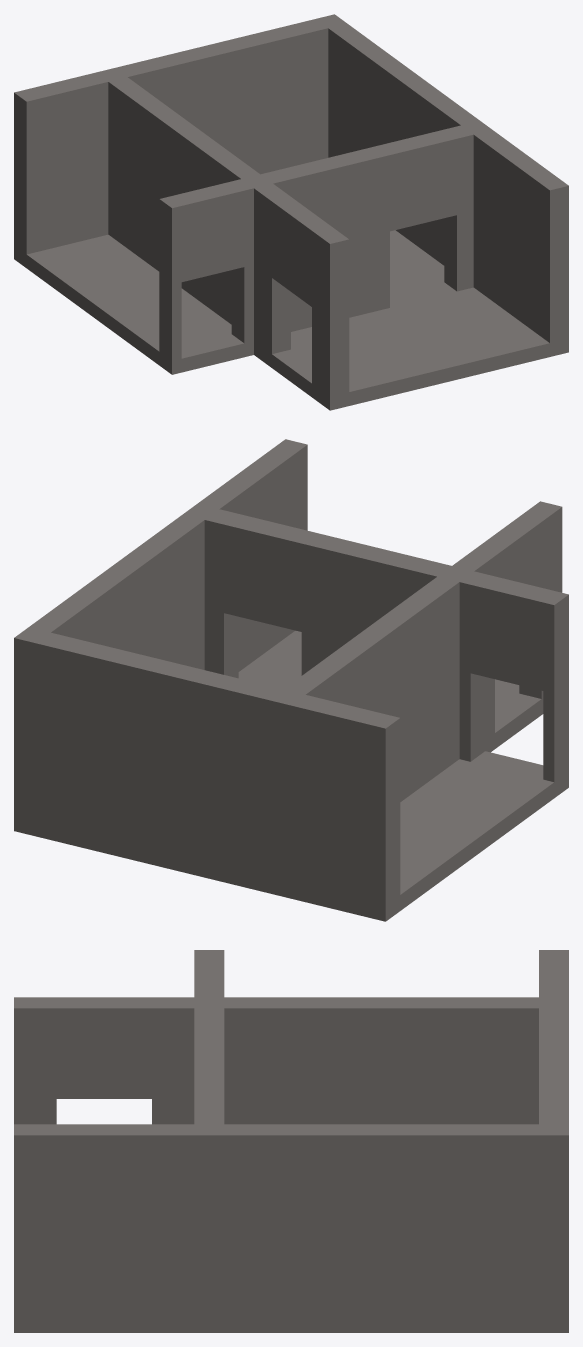
File: NordOuest.fbx
The picture shows the model from 3 angles, top to bottom: view 1: azimuth 30°, elevation 25°; view 2: azimuth 150°, elevation 25°; view 3: azimuth 270°, elevation 25°; orthographic projection. The views are drawn at different scales.
Visible parts, largest first — view 1: NordOuest; view 2: NordOuest; view 3: NordOuest.
Boxes of the visible parts, box(x1,y1,x2,y2) form: NordOuest: box(14, 14, 568, 410); NordOuest: box(14, 439, 568, 921); NordOuest: box(14, 950, 568, 1332).
Size of the model in its own units: 13.06 by 6.49 by 16.52.
